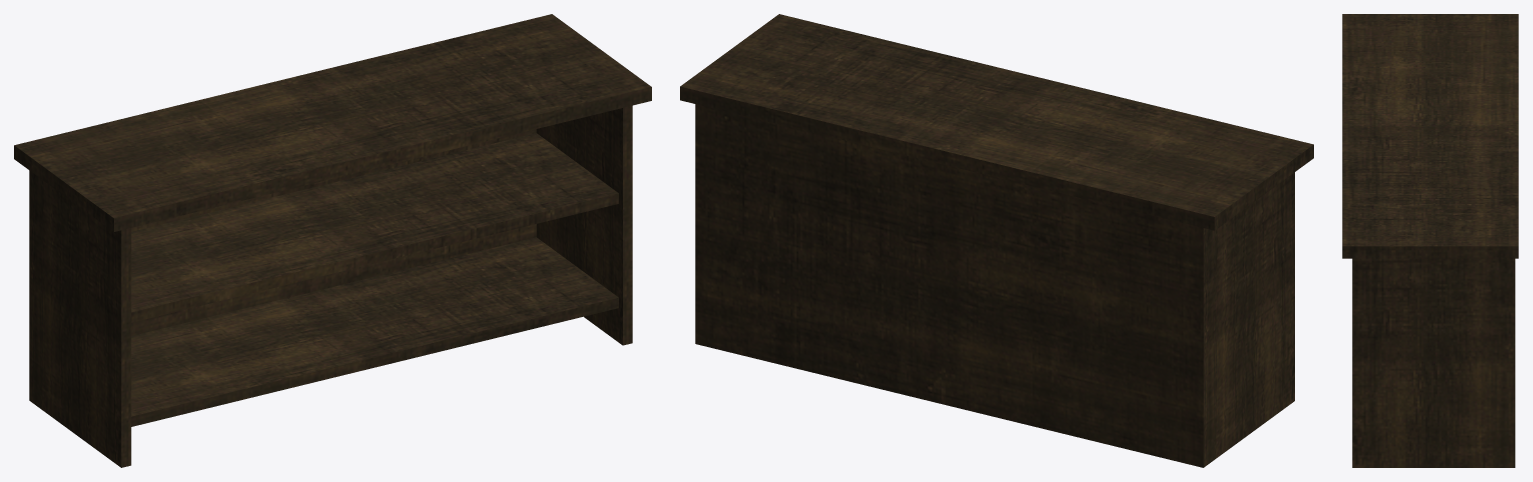
The model's file is tv_table_1_3.obj.
The picture shows the model from 3 angles, left to right: view 1: azimuth 30°, elevation 25°; view 2: azimuth 150°, elevation 25°; view 3: azimuth 270°, elevation 25°; orthographic projection. The views are drawn at different scales.
Visible parts, largest first — view 1: tv_table_1_3; view 2: tv_table_1_3; view 3: tv_table_1_3.
Boxes of the visible parts, left/top/right/bottom form: tv_table_1_3: left=14, top=14, right=651, bottom=467; tv_table_1_3: left=680, top=14, right=1313, bottom=467; tv_table_1_3: left=1342, top=14, right=1518, bottom=467.
Size of the model in its own units: 1.62 by 0.74 by 0.52.
